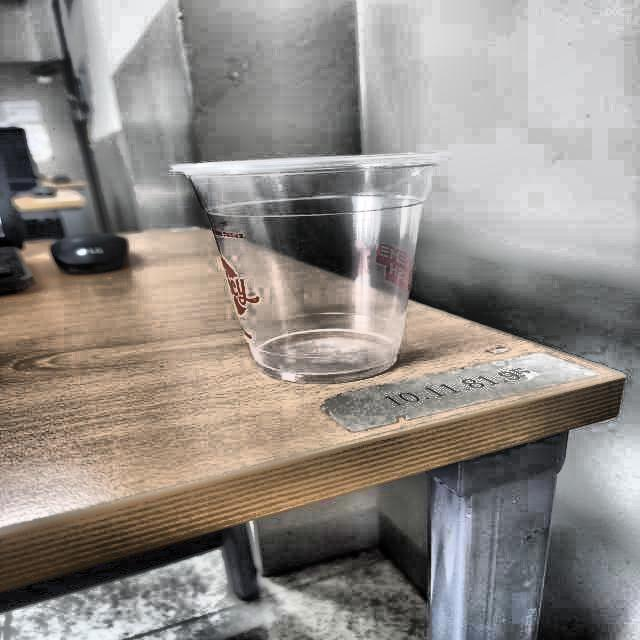plastic cup: (161, 150, 447, 381)
